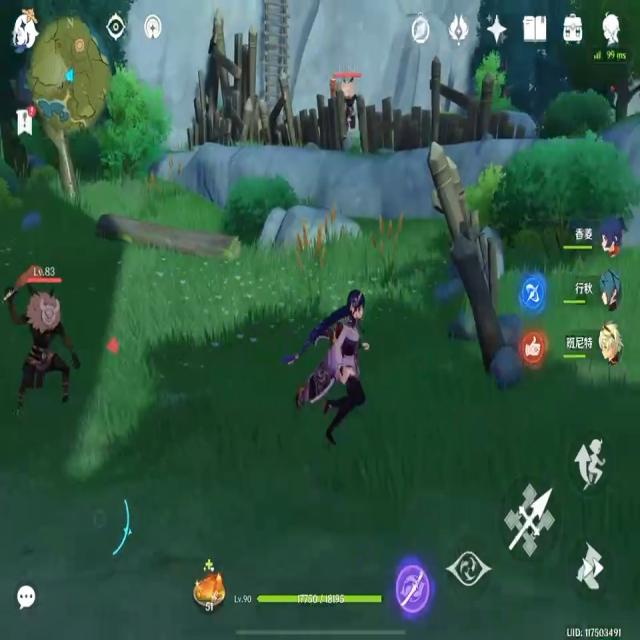genshin-hilichurls: (12, 281, 78, 406)
